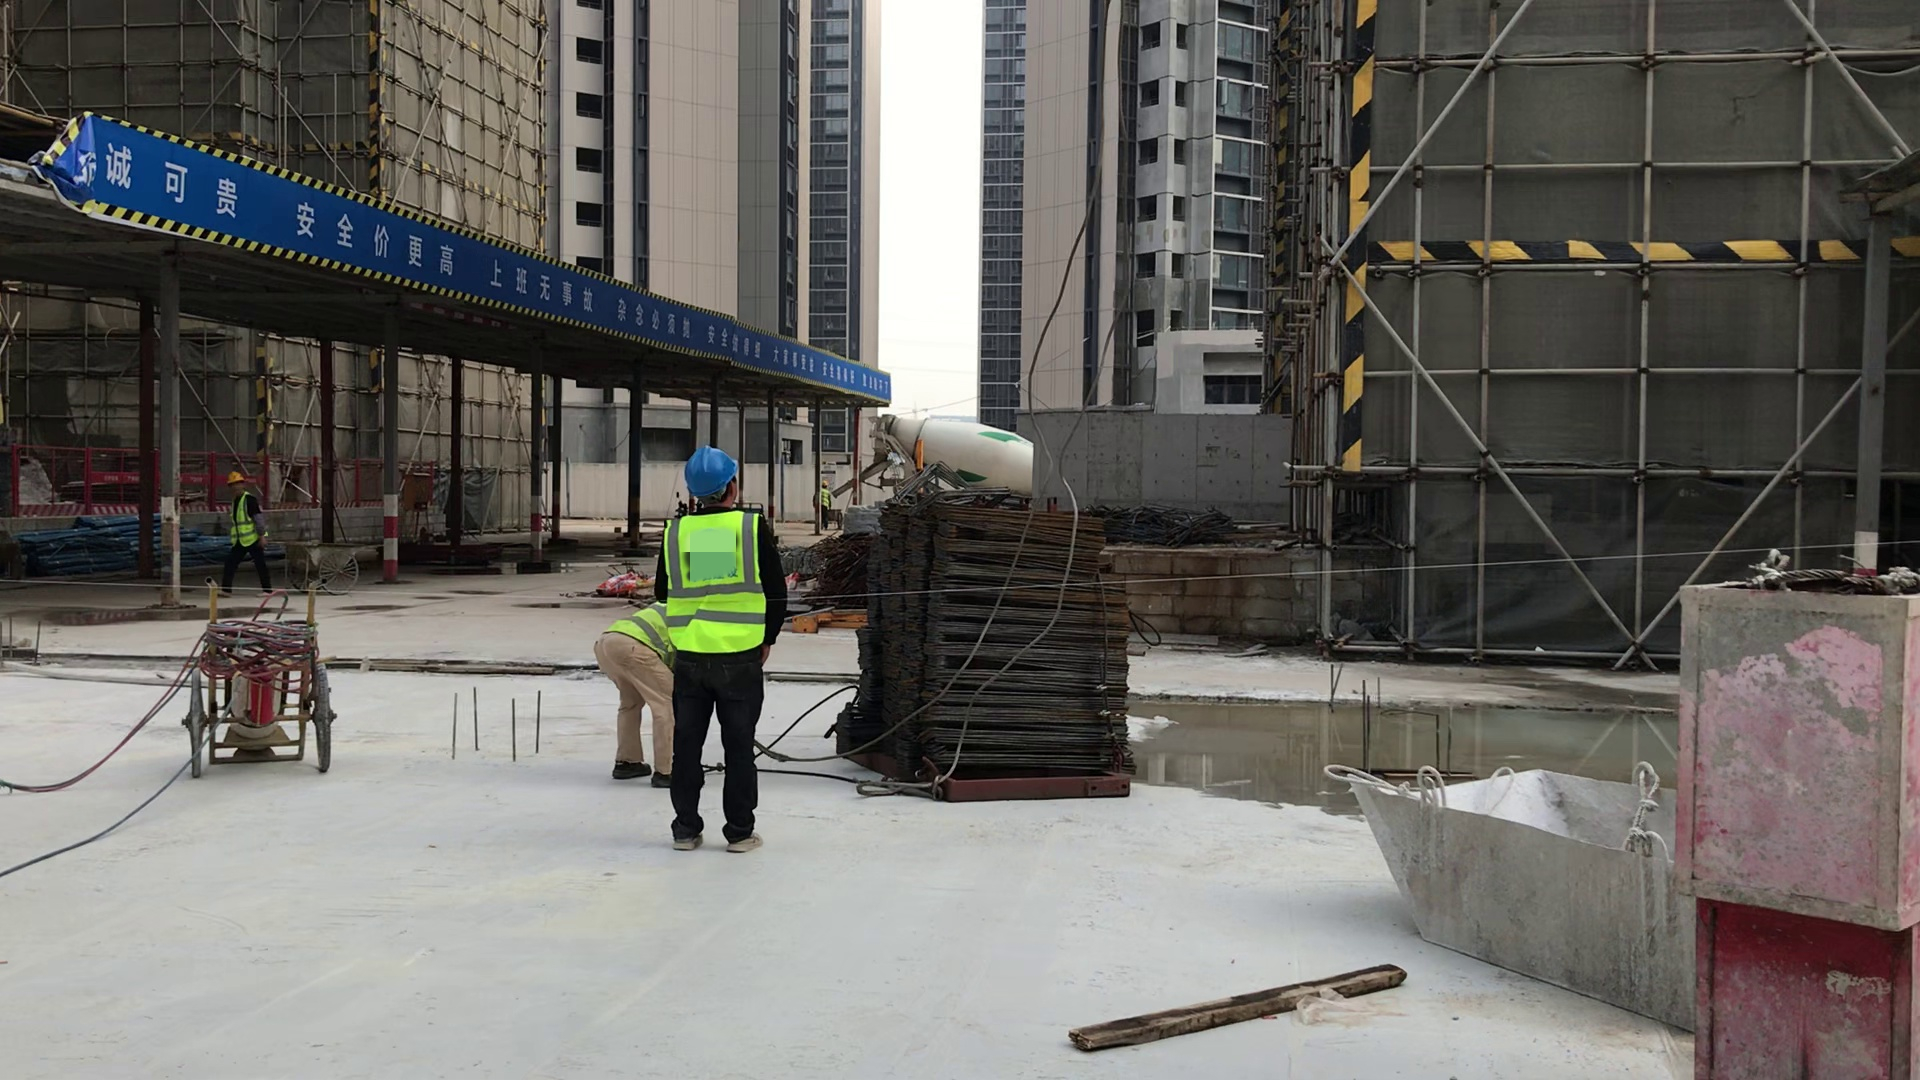ebox: (404, 470, 434, 507)
fence: (1, 454, 438, 522)
handcart: (276, 533, 384, 598)
helmet: (680, 445, 747, 498), (226, 470, 246, 488)
hopper: (1340, 733, 1700, 1004)
person: (663, 443, 767, 862), (597, 590, 674, 787), (214, 464, 274, 597), (813, 477, 831, 531)
vest: (663, 514, 766, 653), (605, 592, 669, 657), (224, 498, 263, 546), (816, 486, 830, 507)
